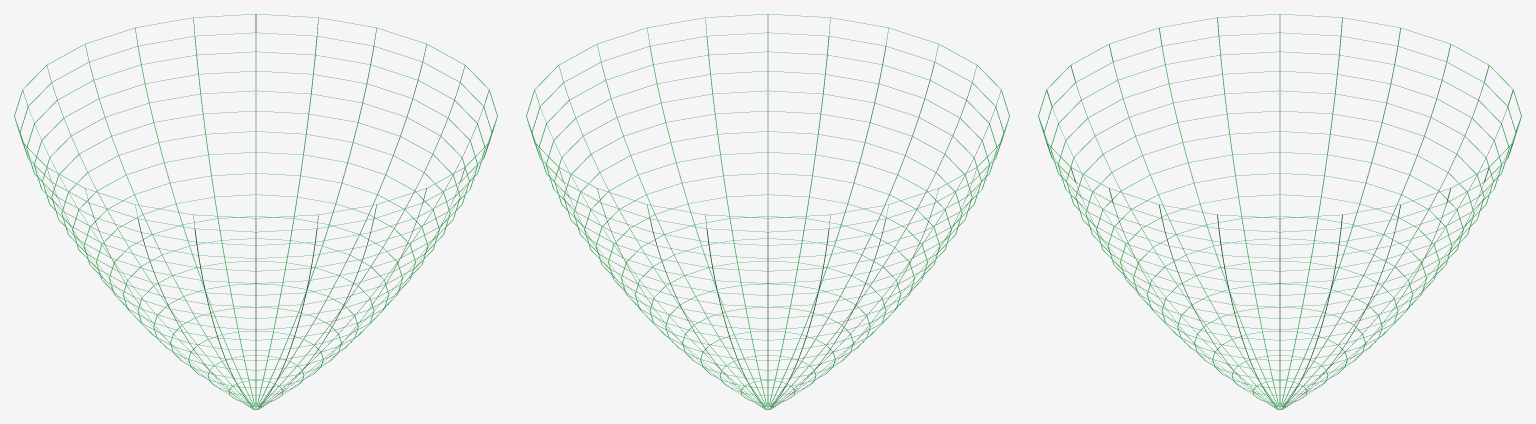
File: filletGreen.fbx
The picture shows the model from 3 angles, left to right: view 1: azimuth 30°, elevation 25°; view 2: azimuth 150°, elevation 25°; view 3: azimuth 270°, elevation 25°; orthographic projection.
Visible parts, largest first — view 1: FishNet; view 2: FishNet; view 3: FishNet.
Boxes of the visible parts, x1=… form: FishNet: x1=14, y1=14, x2=497, y2=409; FishNet: x1=526, y1=14, x2=1009, y2=409; FishNet: x1=1038, y1=14, x2=1521, y2=409.
Size of the model in its own units: 240 by 160 by 240.
